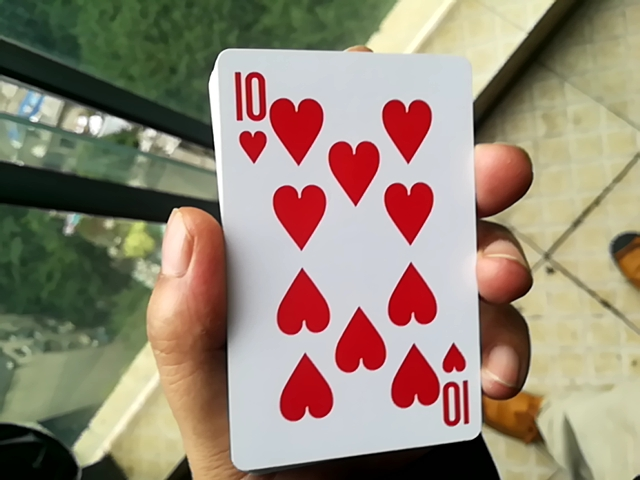hx 10: (215, 30, 473, 467)
